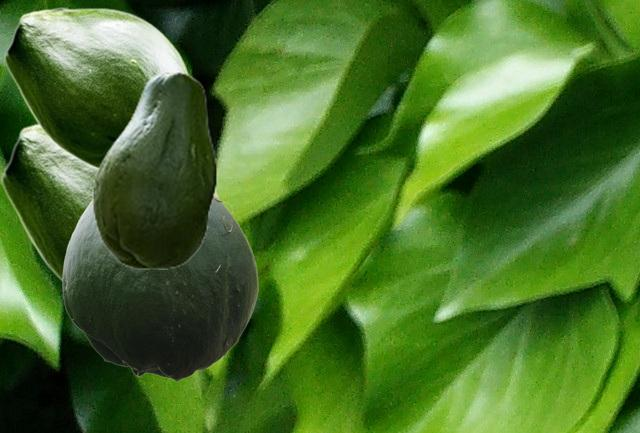sayote: (62, 196, 257, 381), (1, 121, 221, 283), (4, 7, 190, 169), (92, 71, 216, 268)
